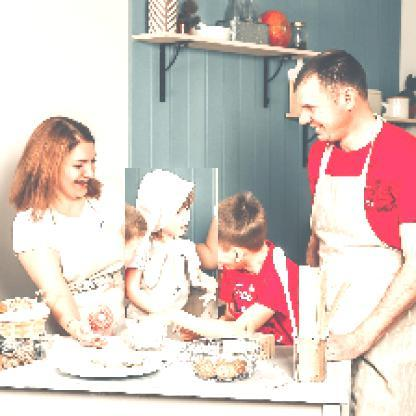child: (146, 194, 300, 345), (126, 169, 220, 320)
